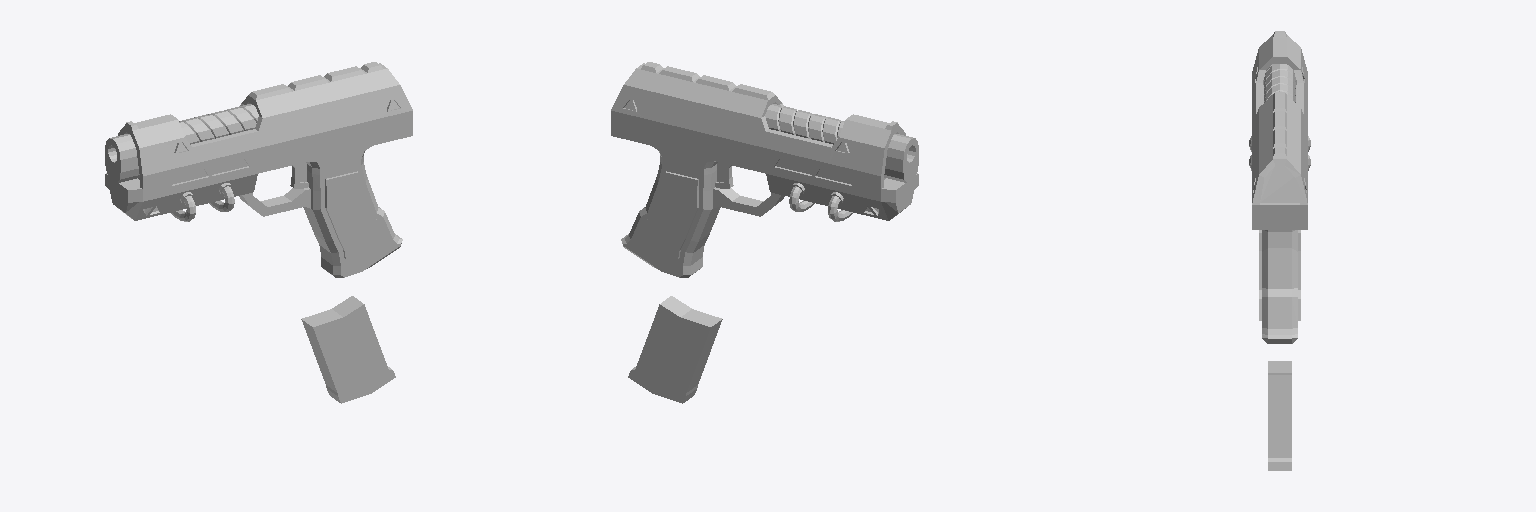
The model's file is gauss.obj.
3 views of the same model, side by side, from view 1: azimuth 30°, elevation 25°; view 2: azimuth 150°, elevation 25°; view 3: azimuth 270°, elevation 25° (orthographic).
Parts seen in each view (by area): view 1: Circle; view 2: Circle; view 3: Circle.
Boxes of the visible parts, box(x1,y1,x2,y2) form: Circle: box(105, 62, 412, 403); Circle: box(611, 62, 918, 403); Circle: box(1249, 31, 1310, 470).
Size of the model in its own units: 0.2357 by 0.256 by 0.0446.